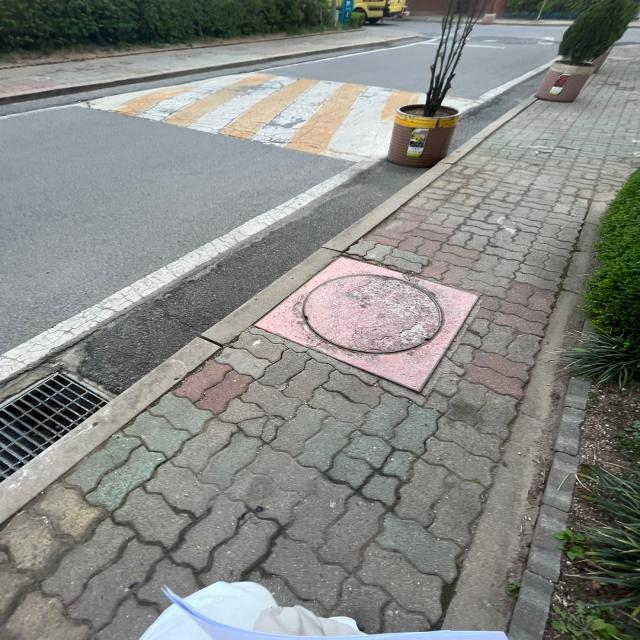Sewer Cover: (242, 239, 495, 405)
